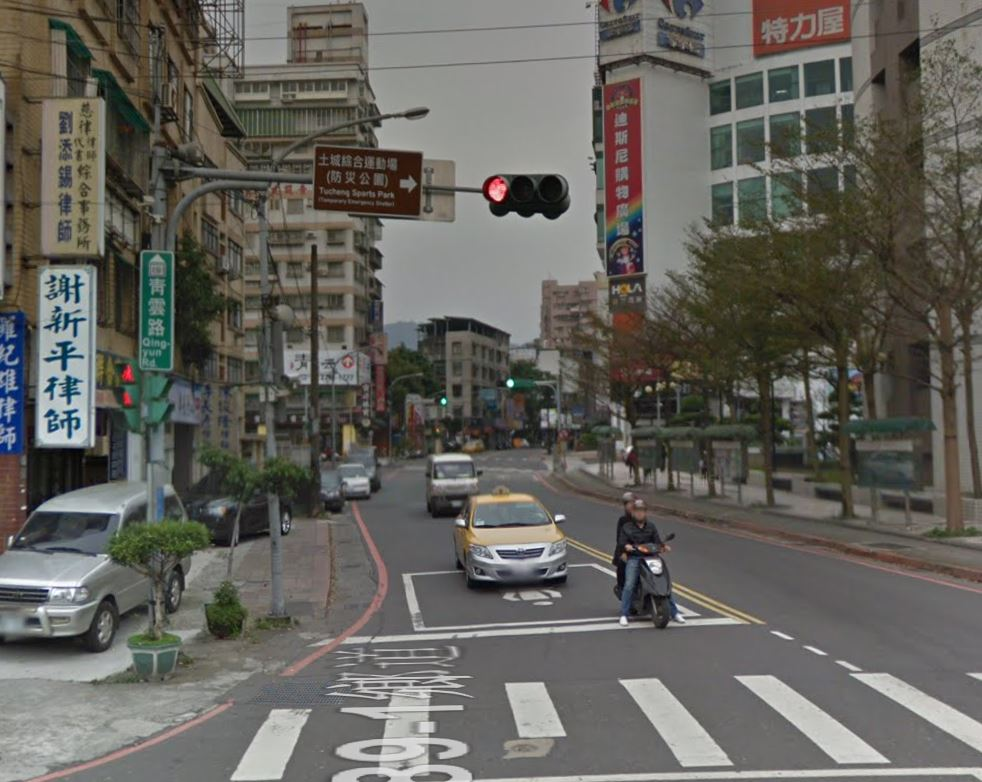Traffic_light_red: (480, 170, 572, 207)
car: (450, 484, 572, 592)
